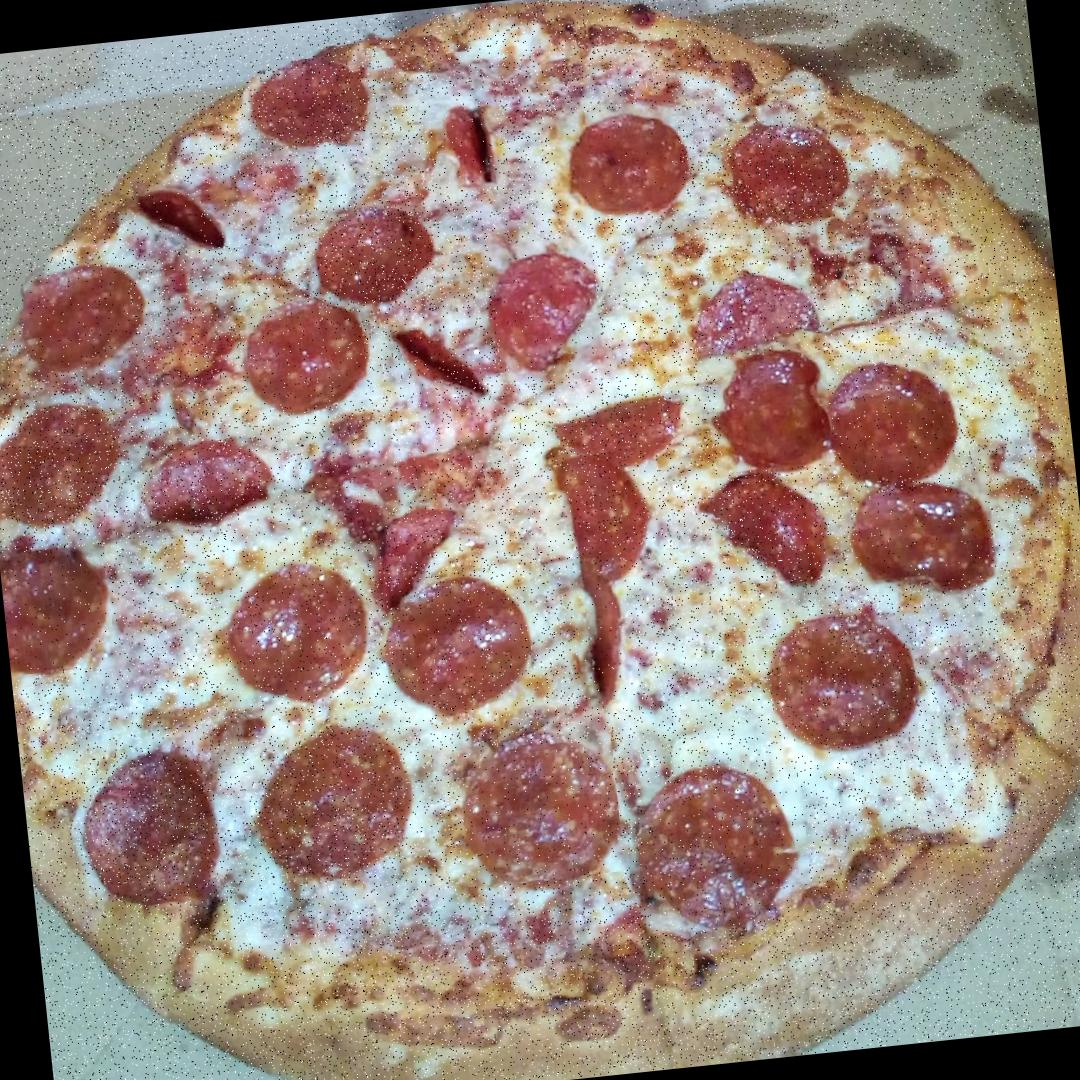Ham: (310, 428, 498, 574)
Pepperoni: (242, 727, 426, 887), (640, 771, 814, 931), (71, 746, 232, 917), (454, 734, 625, 887), (216, 557, 378, 706), (775, 612, 924, 762), (530, 423, 664, 586), (388, 578, 530, 720), (490, 236, 605, 381), (718, 112, 854, 232), (309, 198, 446, 316), (242, 58, 381, 169), (552, 105, 686, 220), (0, 546, 117, 676), (714, 350, 836, 474), (0, 404, 127, 523), (242, 296, 370, 413), (857, 482, 995, 589), (836, 366, 960, 484), (711, 466, 829, 588), (558, 386, 697, 480), (681, 268, 818, 362), (16, 267, 135, 375), (143, 438, 271, 526), (571, 568, 638, 708), (378, 509, 464, 604), (134, 180, 232, 256), (431, 99, 504, 193), (398, 322, 487, 398)
Pizza: (0, 0, 1080, 1080)
